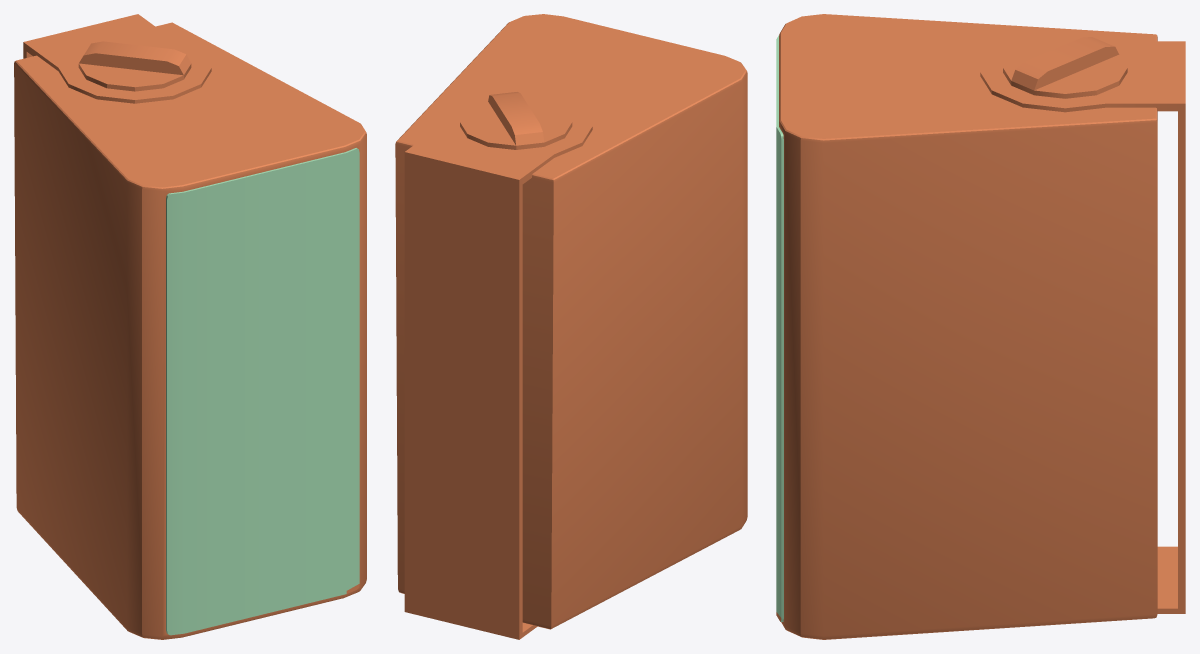
The model's file is Speaker.fbx.
The picture shows the model from 3 angles, left to right: view 1: azimuth 30°, elevation 25°; view 2: azimuth 150°, elevation 25°; view 3: azimuth 270°, elevation 25°; orthographic projection. The views are drawn at different scales.
Parts seen in each view (by area): view 1: Cube.002; view 2: Cube.002; view 3: Cube.002.
Boxes of the visible parts, box(x1,y1,x2,y2) form: Cube.002: box(14, 14, 366, 639); Cube.002: box(395, 14, 747, 639); Cube.002: box(776, 14, 1185, 639).
Size of the model in its own units: 25.39 by 36.19 by 18.6.
